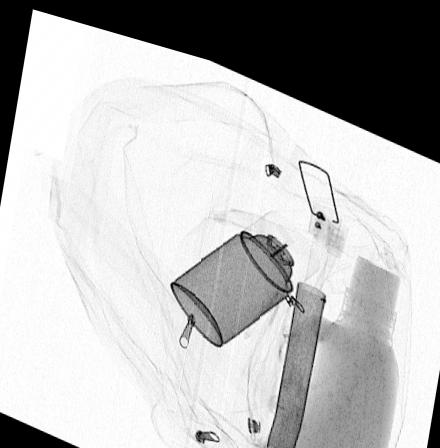Sprayer: (167, 191, 324, 336)
